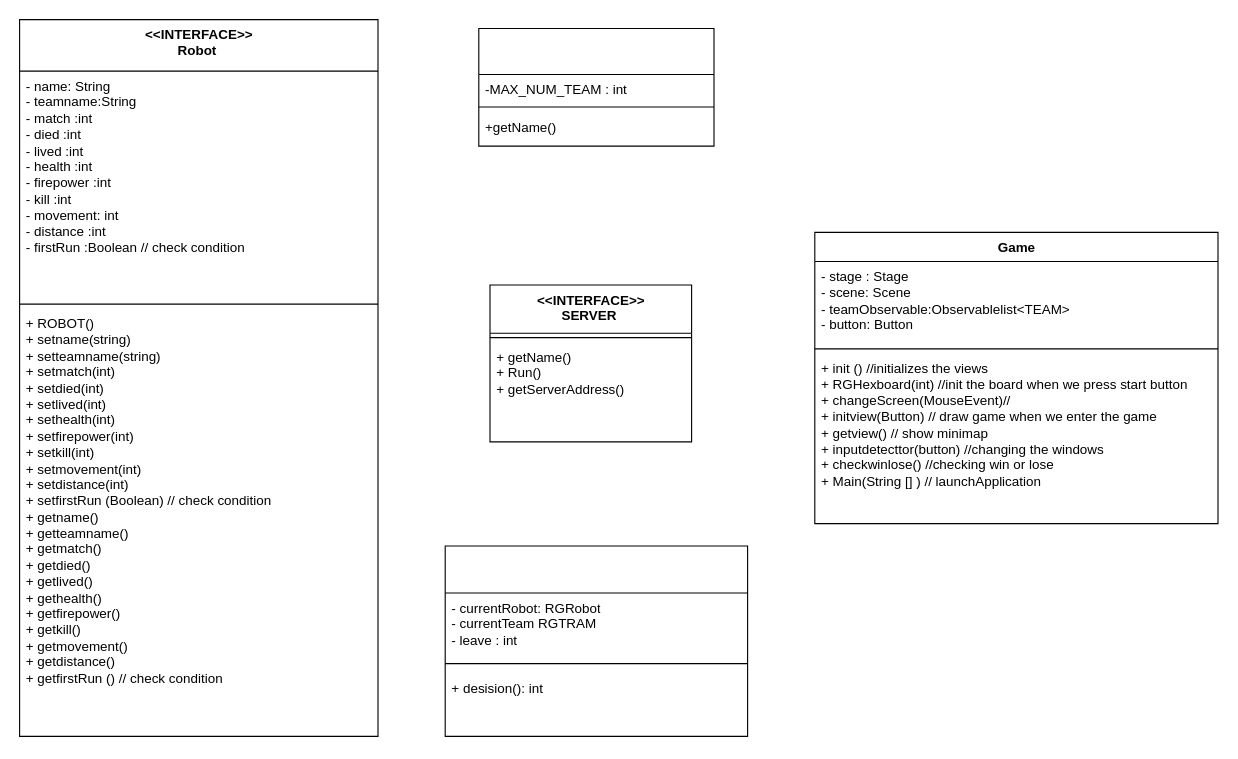
Some shapes in this 1238 by 759 pixel diagram are drawn without their labels. The box of each missing label's shape, as (x1, y1, x2, y2) in pixels:
<< INTERFACE >> AI: (444, 545, 748, 736)
<< INTERFACE >> MODEL: (478, 27, 714, 146)
